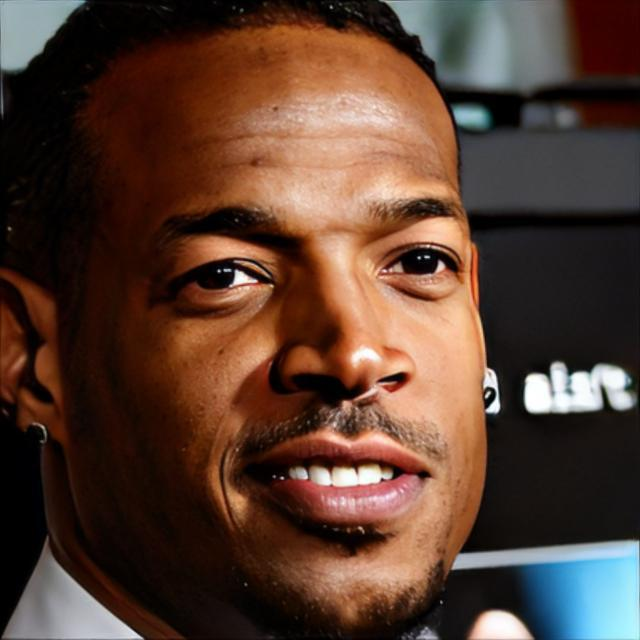content: (68, 32, 486, 634)
